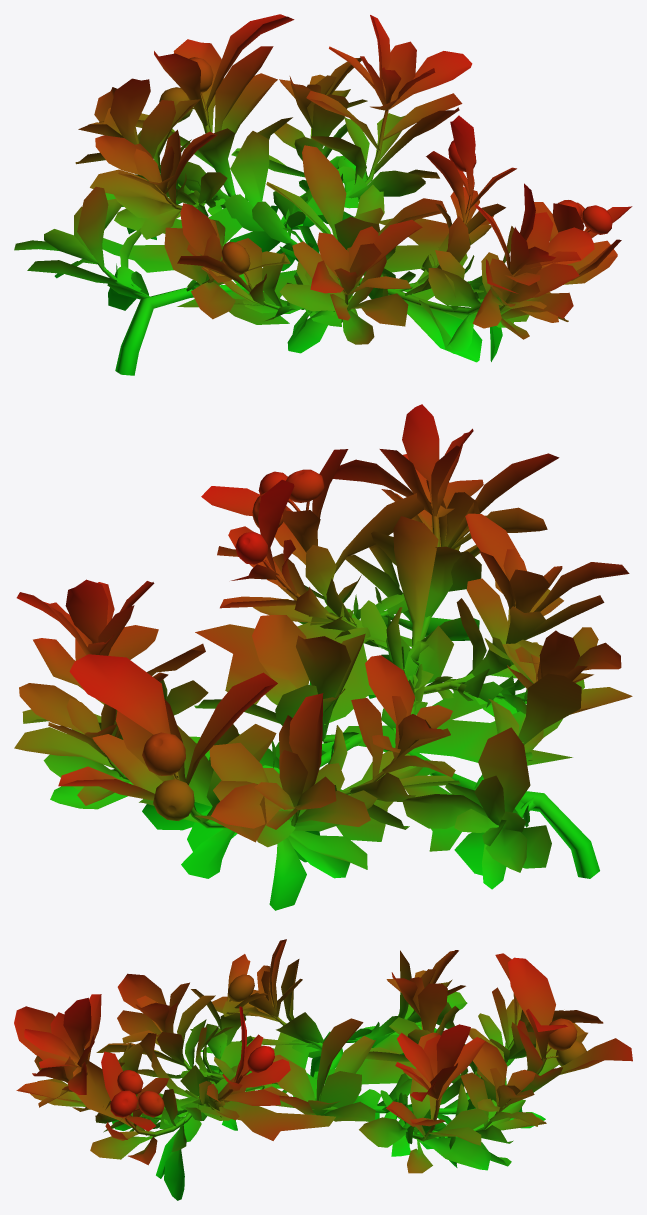
Rendered from Alpine Bearberry_LOD2_Var7_xb0gdazqx.fbx.
3 views of the same model, one above another, from view 1: azimuth 30°, elevation 25°; view 2: azimuth 150°, elevation 25°; view 3: azimuth 270°, elevation 25° (orthographic). The views are drawn at different scales.
Parts seen in each view (by area): view 1: _7o45_Var7_LOD2; view 2: _7o45_Var7_LOD2; view 3: _7o45_Var7_LOD2.
Boxes of the visible parts, left/top/right/bottom form: _7o45_Var7_LOD2: left=14, top=14, right=632, bottom=375; _7o45_Var7_LOD2: left=14, top=404, right=632, bottom=910; _7o45_Var7_LOD2: left=14, top=939, right=632, bottom=1200.
Bounding box in the file's own units: 25.38 × 12.12 × 34.64.
